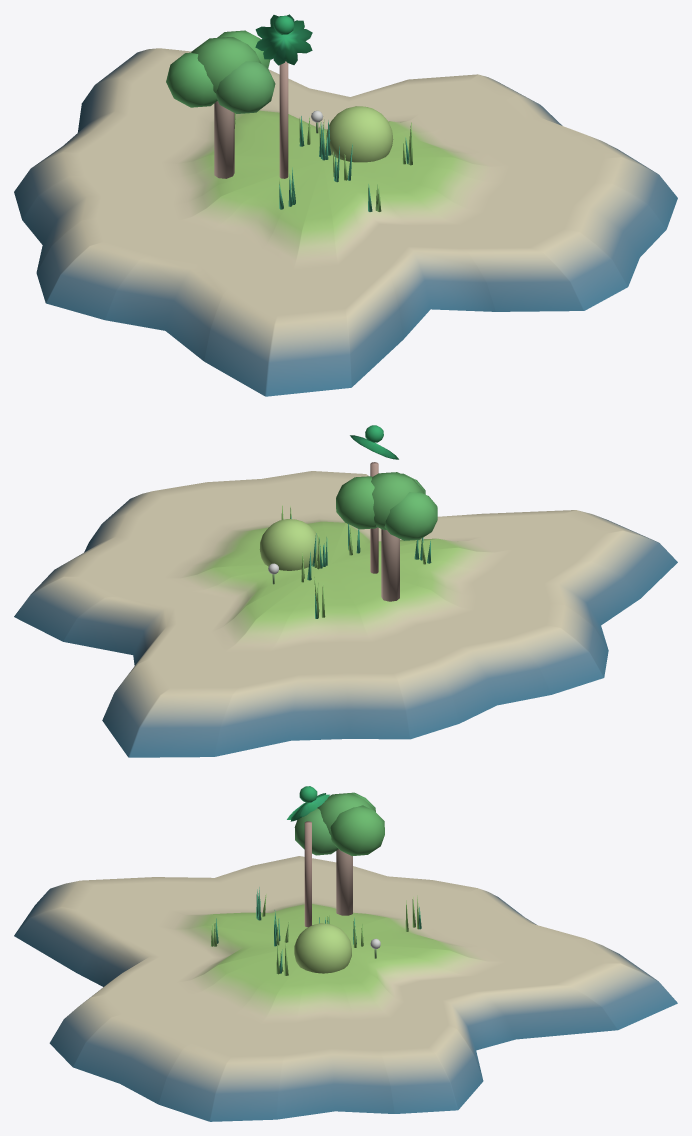
The model's file is terrain_island_14.glb.
The picture shows the model from 3 angles, top to bottom: view 1: azimuth 30°, elevation 25°; view 2: azimuth 150°, elevation 25°; view 3: azimuth 270°, elevation 25°; orthographic projection. The views are drawn at different scales.
Parts seen in each view (by area): view 1: island_terrain, hill0, veg_tree1_tree_crown_2, veg_tree1_tree_crown_0, veg_tree1_tree_crown_c, veg_tree1_tree_trunk, veg_tree0_palm_trunk; view 2: island_terrain, hill0, veg_tree1_tree_crown_0, veg_tree1_tree_crown_1, veg_tree1_tree_crown_c, veg_tree1_tree_trunk, veg_tree0_palm_trunk; view 3: island_terrain, hill0, veg_tree1_tree_crown_1, veg_tree1_tree_crown_2, veg_tree1_tree_trunk, veg_tree1_tree_crown_c, veg_tree0_palm_trunk.
Boxes of the visible parts, box(x1,y1,x2,y2) form: island_terrain: box(14, 48, 677, 396); hill0: box(326, 106, 393, 162); veg_tree1_tree_crown_2: box(216, 61, 275, 113); veg_tree1_tree_crown_0: box(166, 52, 217, 107); veg_tree1_tree_crown_c: box(191, 37, 261, 92); veg_tree1_tree_trunk: box(214, 101, 234, 178); veg_tree0_palm_trunk: box(279, 61, 288, 178); island_terrain: box(14, 471, 677, 757); hill0: box(259, 519, 320, 570); veg_tree1_tree_crown_0: box(384, 491, 437, 540); veg_tree1_tree_crown_1: box(336, 476, 377, 529); veg_tree1_tree_crown_c: box(371, 472, 423, 530); veg_tree1_tree_trunk: box(381, 529, 399, 601); veg_tree0_palm_trunk: box(370, 462, 378, 573); island_terrain: box(14, 856, 677, 1121); hill0: box(294, 923, 351, 973); veg_tree1_tree_crown_1: box(330, 805, 384, 856); veg_tree1_tree_crown_2: box(294, 808, 338, 855); veg_tree1_tree_trunk: box(336, 849, 352, 915); veg_tree1_tree_crown_c: box(317, 793, 375, 834); veg_tree0_palm_trunk: box(304, 821, 311, 927).
Bounding box in the file's own units: 149 × 54.36 × 170.
